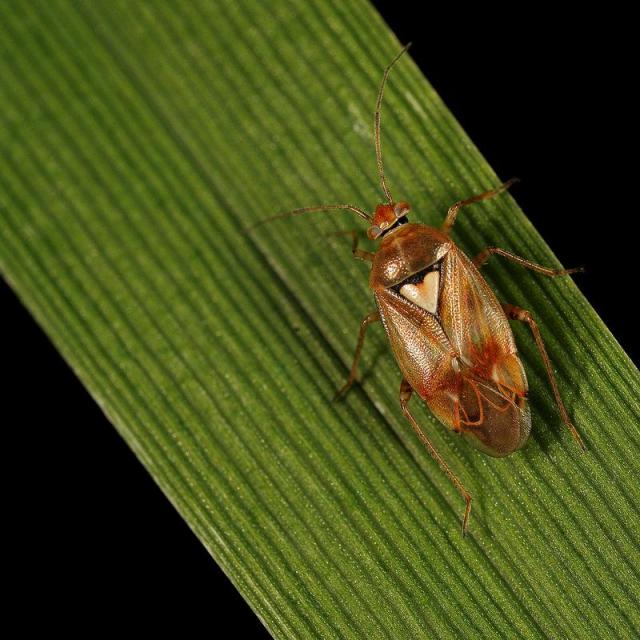Miridae-Adult-: (233, 24, 578, 470)
